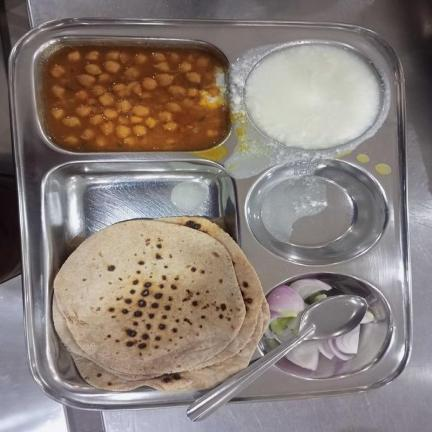Chhole: (42, 47, 228, 152)
Dahi: (243, 44, 381, 150)
Plate: (8, 17, 414, 411)
Roti: (51, 216, 271, 393)
Salad: (266, 279, 376, 372)
